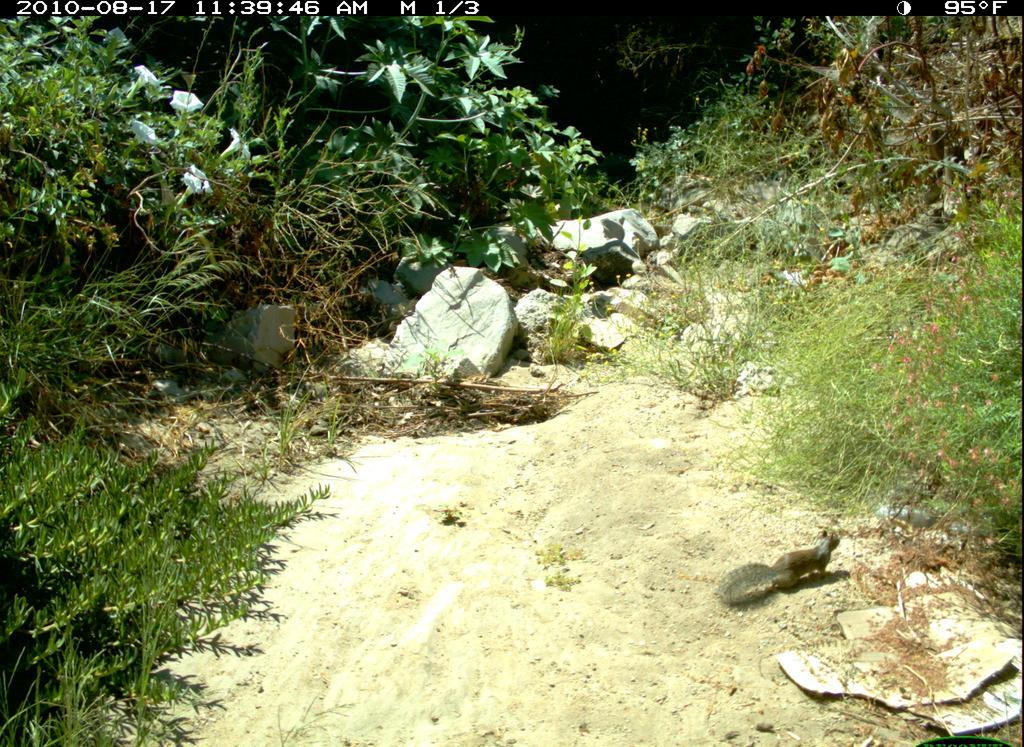squirrel: (713, 520, 854, 612)
